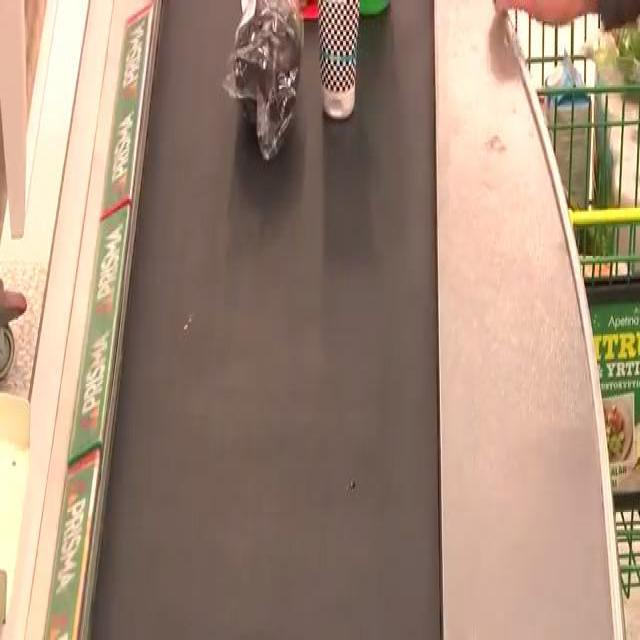beverage: (312, 0, 373, 130)
food-box: (234, 2, 294, 195)
